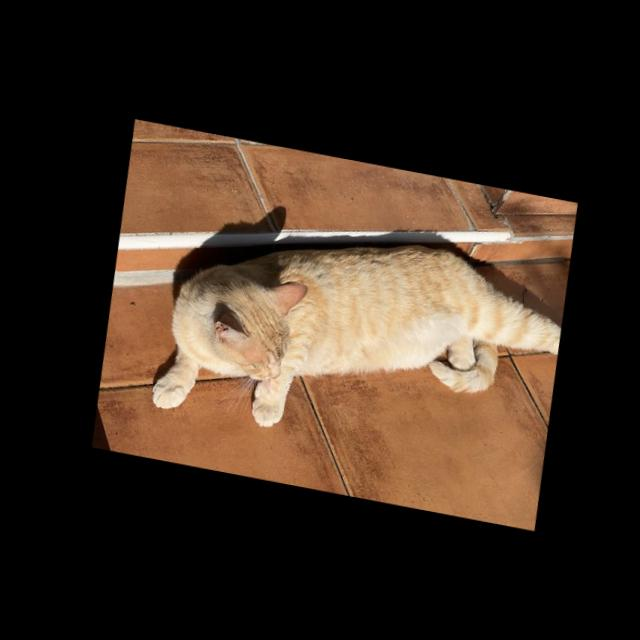animals: (139, 198, 573, 478)
